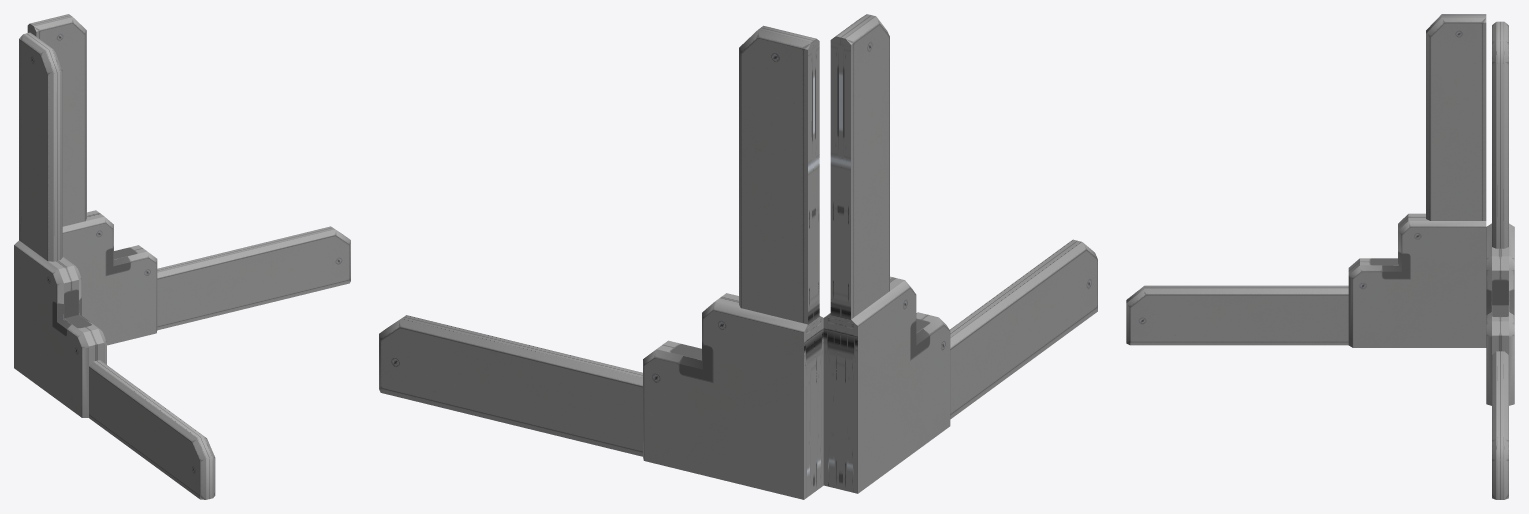
The model's file is SM_SAngle01.fbx.
3 renders of one model, left to right at view 1: azimuth 30°, elevation 25°; view 2: azimuth 150°, elevation 25°; view 3: azimuth 270°, elevation 25°, orthographic. The views are drawn at different scales.
Visible parts, largest first — view 1: SM_SAngle01_LOD0; view 2: SM_SAngle01_LOD0; view 3: SM_SAngle01_LOD0.
Part boxes in pixels (bbox=[...]): SM_SAngle01_LOD0: bbox=[14, 14, 350, 499]; SM_SAngle01_LOD0: bbox=[379, 14, 1097, 499]; SM_SAngle01_LOD0: bbox=[1126, 14, 1514, 499].
Bounding box in the file's own units: 341 × 341 × 316.
Materials: 1 (1 with a texture image).
